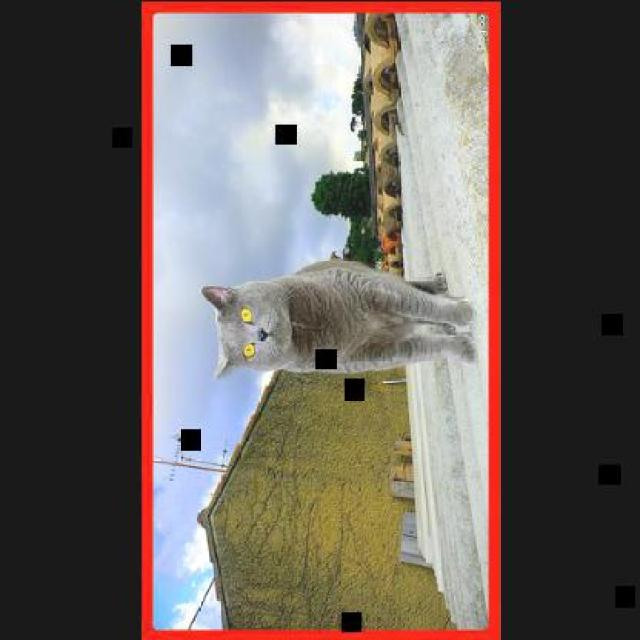unauthorized: (200, 254, 475, 380)
